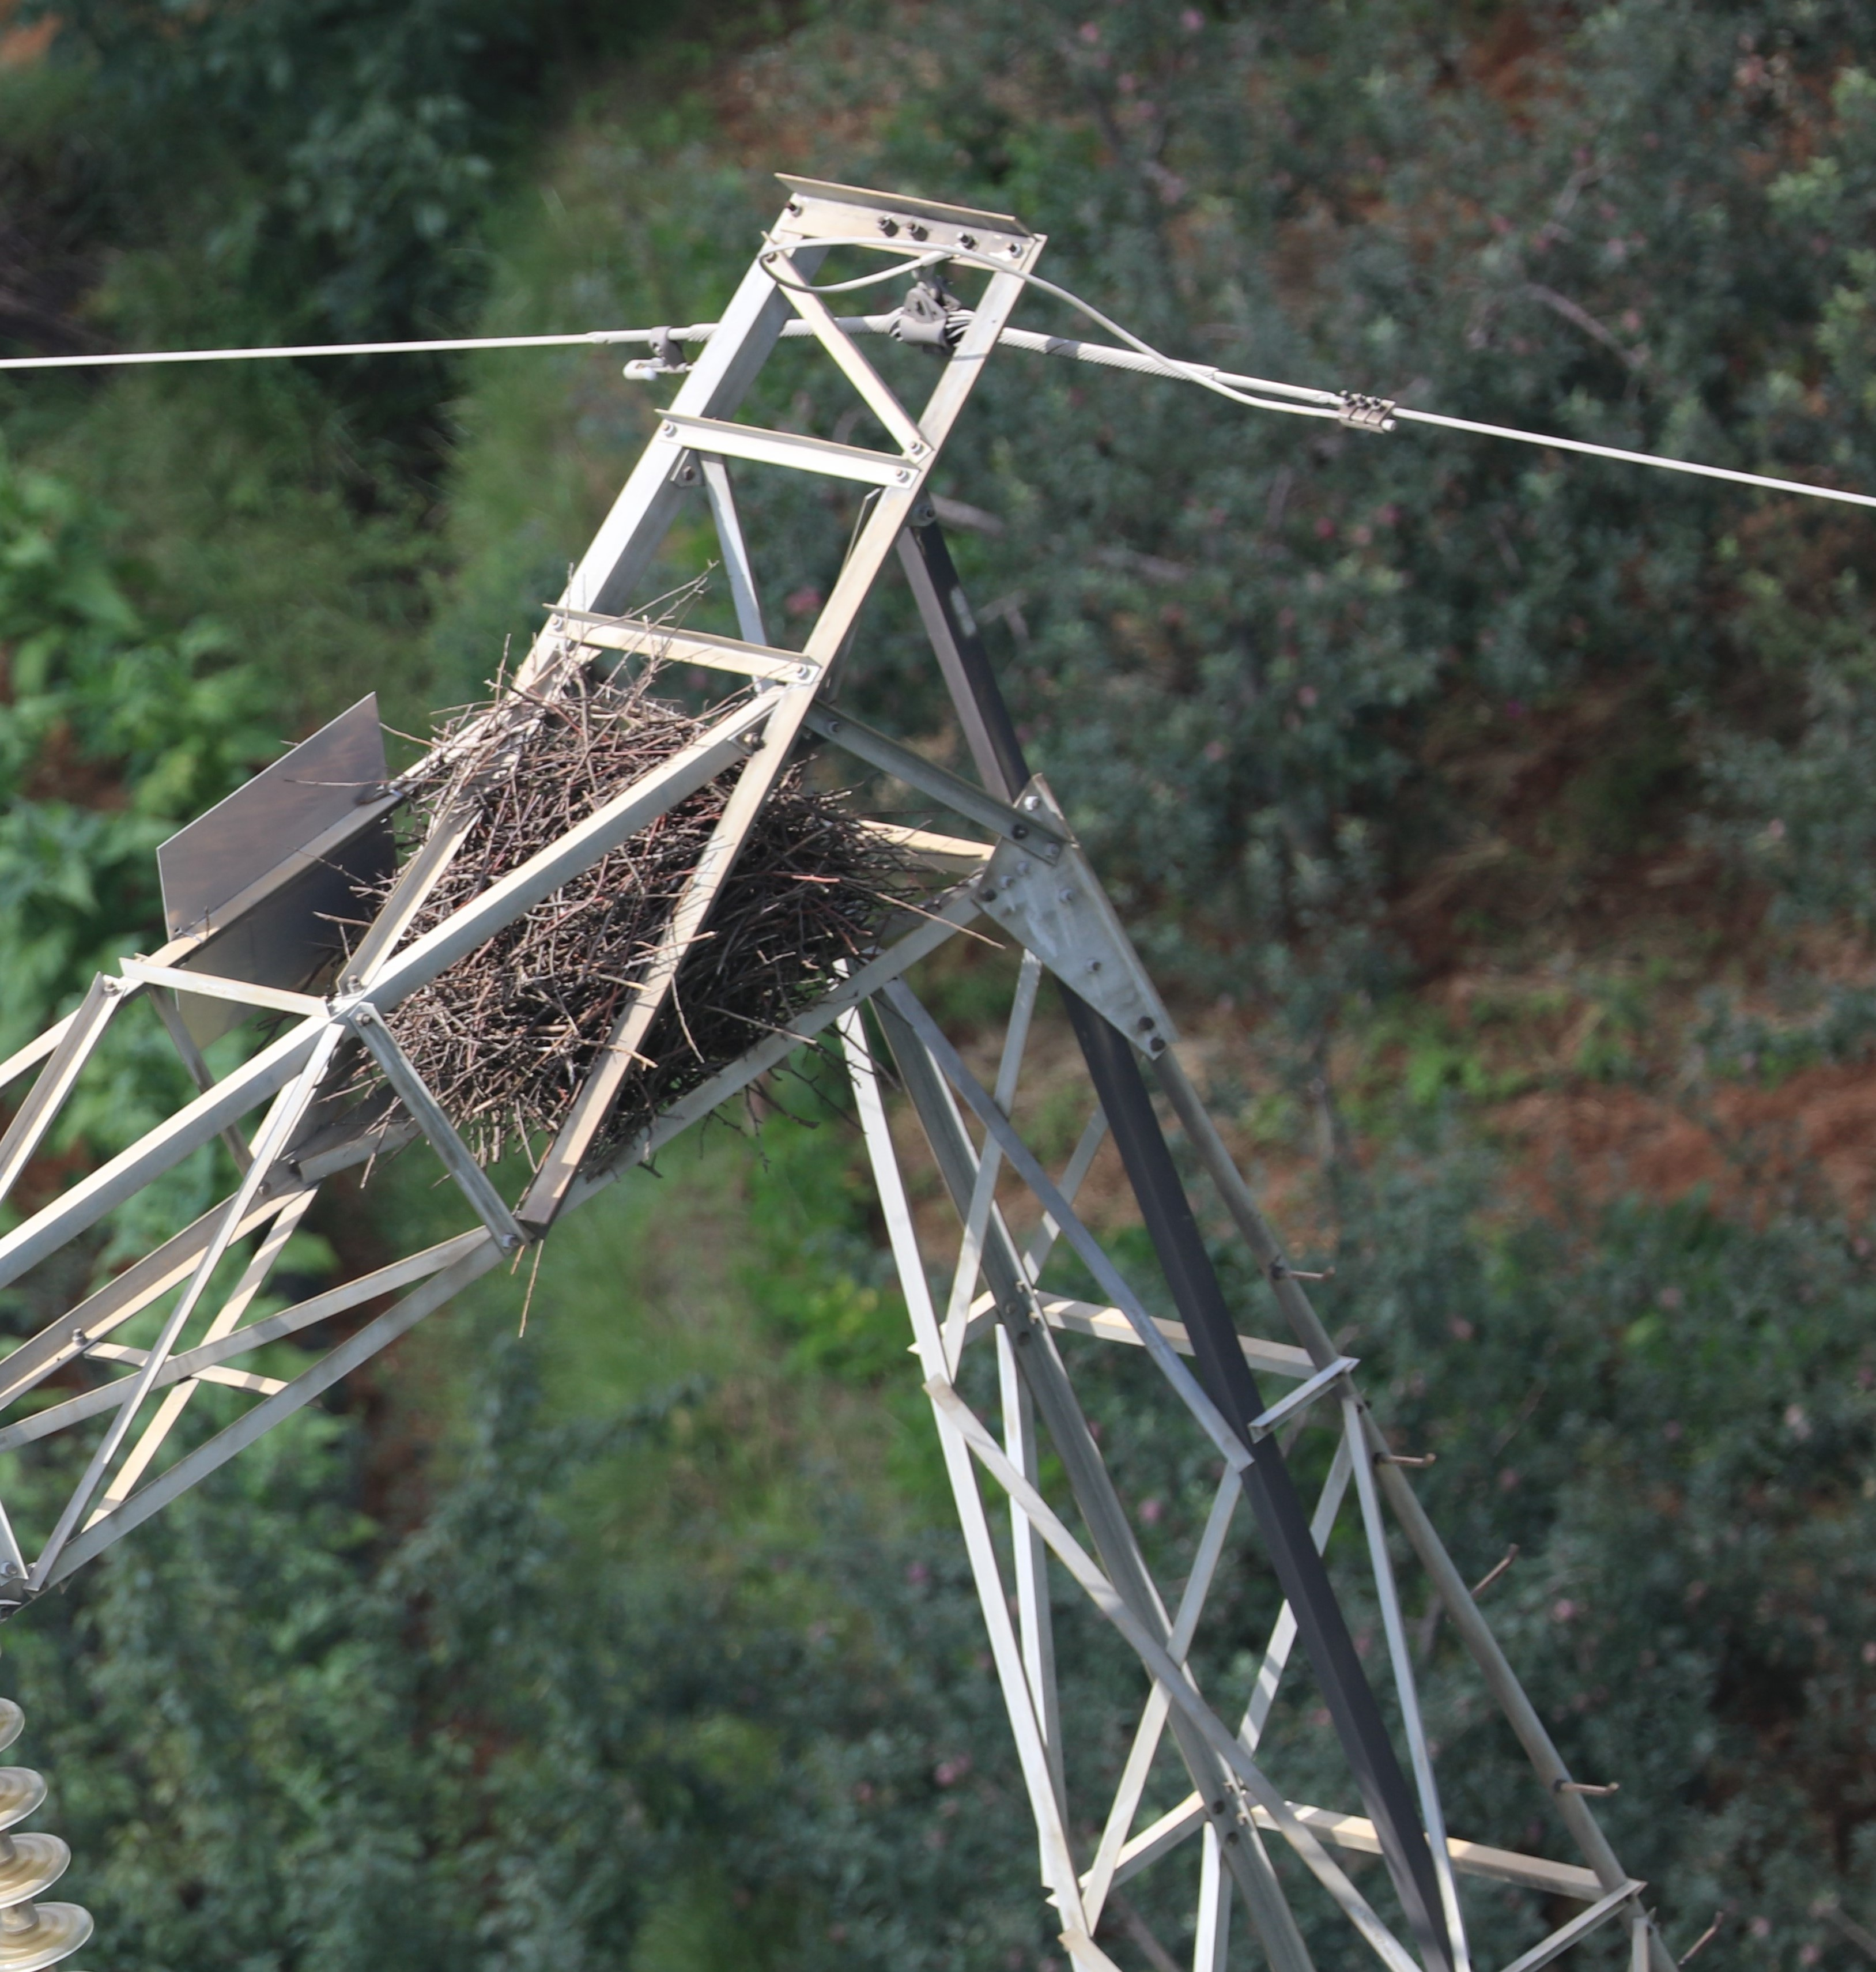niaowo: (313, 666, 908, 1174)
